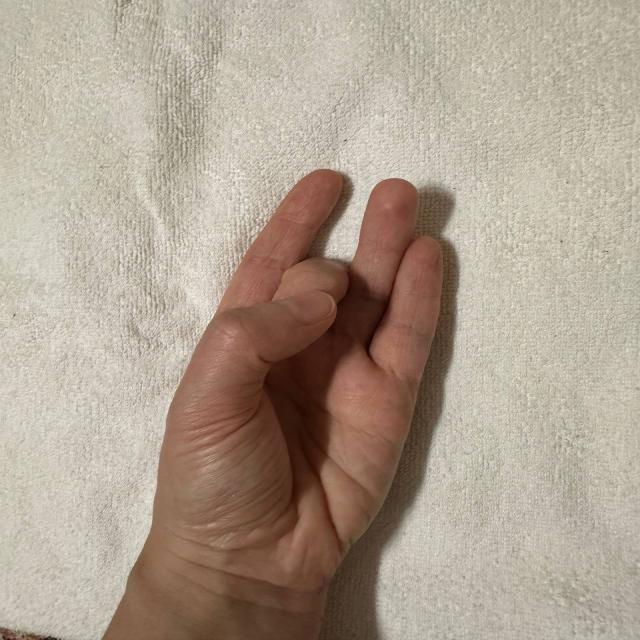r: (113, 92, 440, 543)
